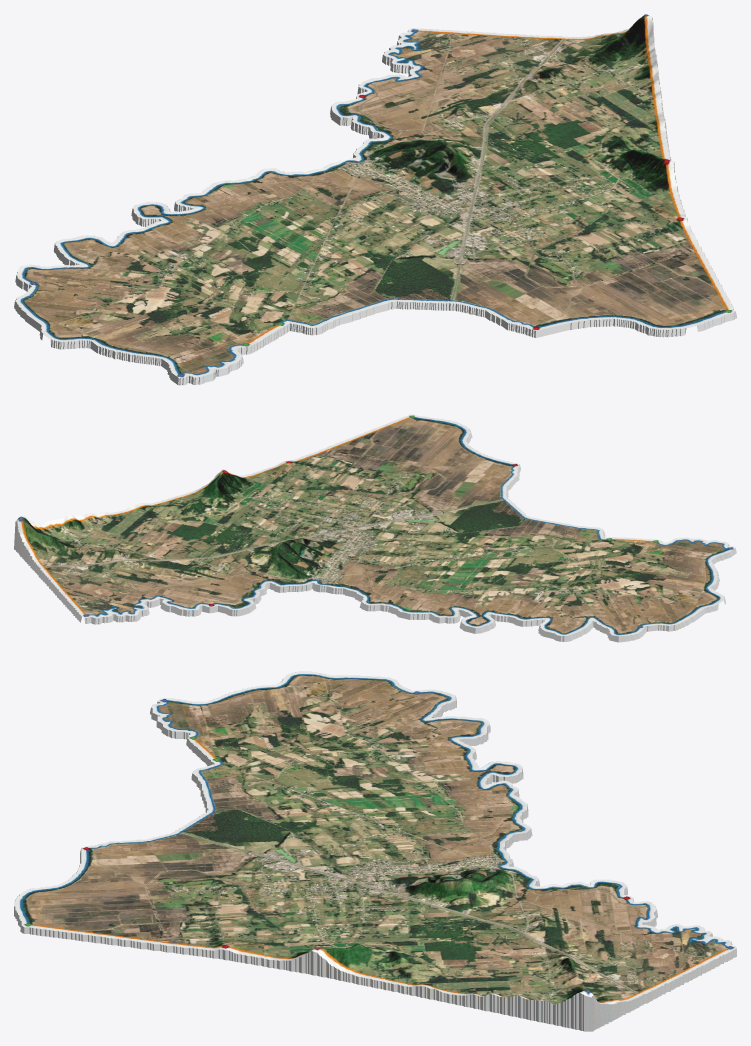
3 views of the same model, one above another, from view 1: azimuth 30°, elevation 25°; view 2: azimuth 150°, elevation 25°; view 3: azimuth 270°, elevation 25° (orthographic). The views are drawn at different scales.
Size of the model in its own units: 1 by 0.0502 by 0.8644.
1 material, 1 textured.
